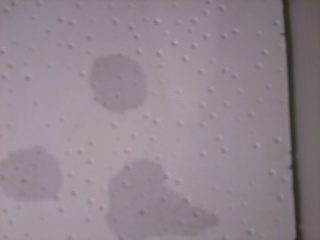Water_detected: (111, 173, 187, 239), (82, 52, 138, 106), (7, 152, 57, 192)
